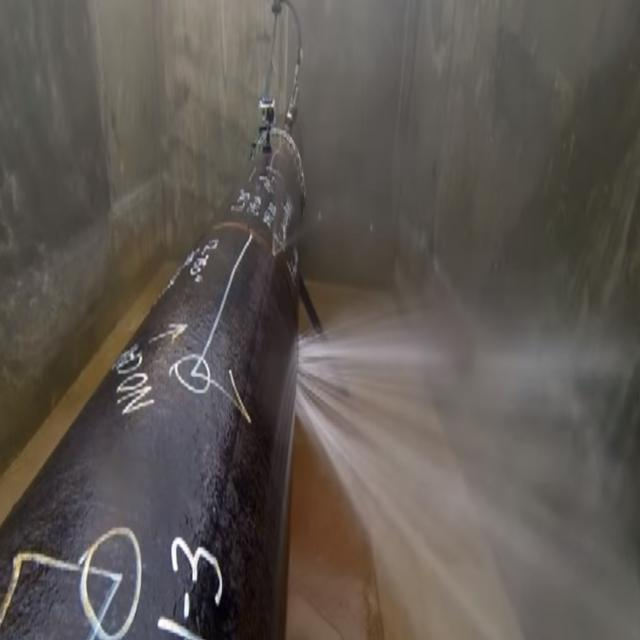leak: (296, 292, 640, 640)
